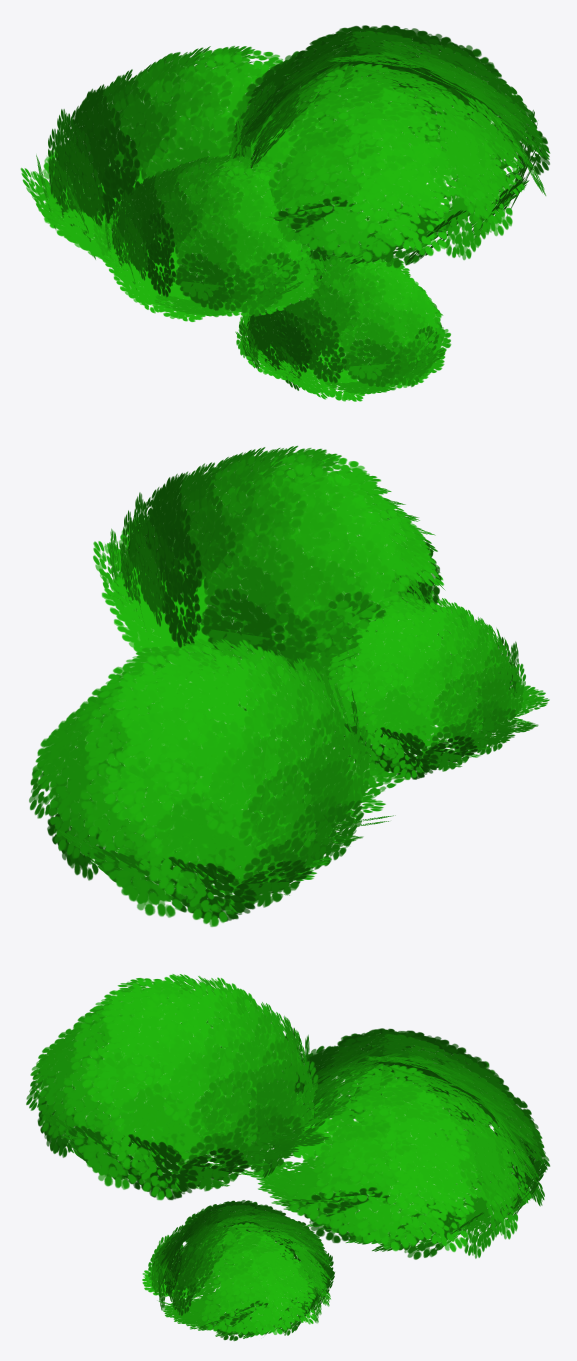
Rendered from tree canopy.glb.
3 views of the same model, one above another, from view 1: azimuth 30°, elevation 25°; view 2: azimuth 150°, elevation 25°; view 3: azimuth 270°, elevation 25° (orthographic). The views are drawn at different scales.
Parts seen in each view (by area): view 1: Plane.661, Plane.128, Plane.171, Plane.127, Plane.125, Plane.149, Plane.167, Plane.162, Plane.421, Plane.105, Plane.655, Plane.643 (+134 smaller); view 2: Plane.615, Plane.626, Plane.208, Plane.224, Plane.629, Plane.614, Plane.611, Plane.599, Plane.627, Plane.024, Plane.620, Plane.220 (+146 smaller); view 3: Plane.063, Plane.052, Plane.049, Plane.064, Plane.507, Plane.511, Plane.051, Plane.516, Plane.040, Plane.079, Plane.037, Plane.067 (+118 smaller).
Boxes of the visible parts, x1=… form: Plane.661: x1=115, y1=102, x2=169, y2=180; Plane.128: x1=371, y1=104, x2=440, y2=161; Plane.171: x1=318, y1=63, x2=390, y2=100; Plane.127: x1=385, y1=197, x2=447, y2=255; Plane.125: x1=375, y1=133, x2=443, y2=192; Plane.149: x1=338, y1=83, x2=411, y2=134; Plane.167: x1=288, y1=96, x2=351, y2=150; Plane.162: x1=306, y1=117, x2=375, y2=168; Plane.421: x1=232, y1=265, x2=285, y2=316; Plane.105: x1=448, y1=117, x2=502, y2=178; Plane.655: x1=98, y1=123, x2=140, y2=202; Plane.643: x1=64, y1=140, x2=95, y2=217; Plane.615: x1=185, y1=802, x2=261, y2=880; Plane.626: x1=243, y1=837, x2=308, y2=907; Plane.208: x1=283, y1=609, x2=362, y2=681; Plane.224: x1=200, y1=588, x2=272, y2=657; Plane.629: x1=258, y1=785, x2=315, y2=868; Plane.614: x1=178, y1=847, x2=256, y2=926; Plane.611: x1=160, y1=722, x2=229, y2=799; Plane.599: x1=115, y1=835, x2=187, y2=917; Plane.627: x1=238, y1=781, x2=308, y2=863; Plane.024: x1=163, y1=571, x2=201, y2=647; Plane.620: x1=220, y1=768, x2=289, y2=850; Plane.220: x1=205, y1=578, x2=275, y2=657; Plane.063: x1=143, y1=1093, x2=207, y2=1161; Plane.052: x1=187, y1=1132, x2=248, y2=1191; Plane.049: x1=206, y1=1089, x2=257, y2=1156; Plane.064: x1=133, y1=1133, x2=199, y2=1200; Plane.507: x1=359, y1=1065, x2=428, y2=1097; Plane.511: x1=327, y1=1095, x2=390, y2=1140; Plane.051: x1=189, y1=1082, x2=251, y2=1154; Plane.516: x1=345, y1=1111, x2=411, y2=1160; Plane.040: x1=231, y1=1105, x2=278, y2=1166; Plane.079: x1=83, y1=1120, x2=140, y2=1189; Plane.037: x1=246, y1=1114, x2=301, y2=1172; Plane.067: x1=131, y1=1029, x2=191, y2=1092.
Size of the model in its own units: 18.17 by 15.39 by 22.33.
3 materials, 3 textured.
